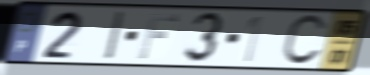1: (243, 15, 265, 64)
2: (38, 7, 86, 62)
3: (180, 10, 228, 65)
C: (279, 13, 329, 68)
F: (135, 13, 182, 61)
I: (103, 10, 128, 62)
